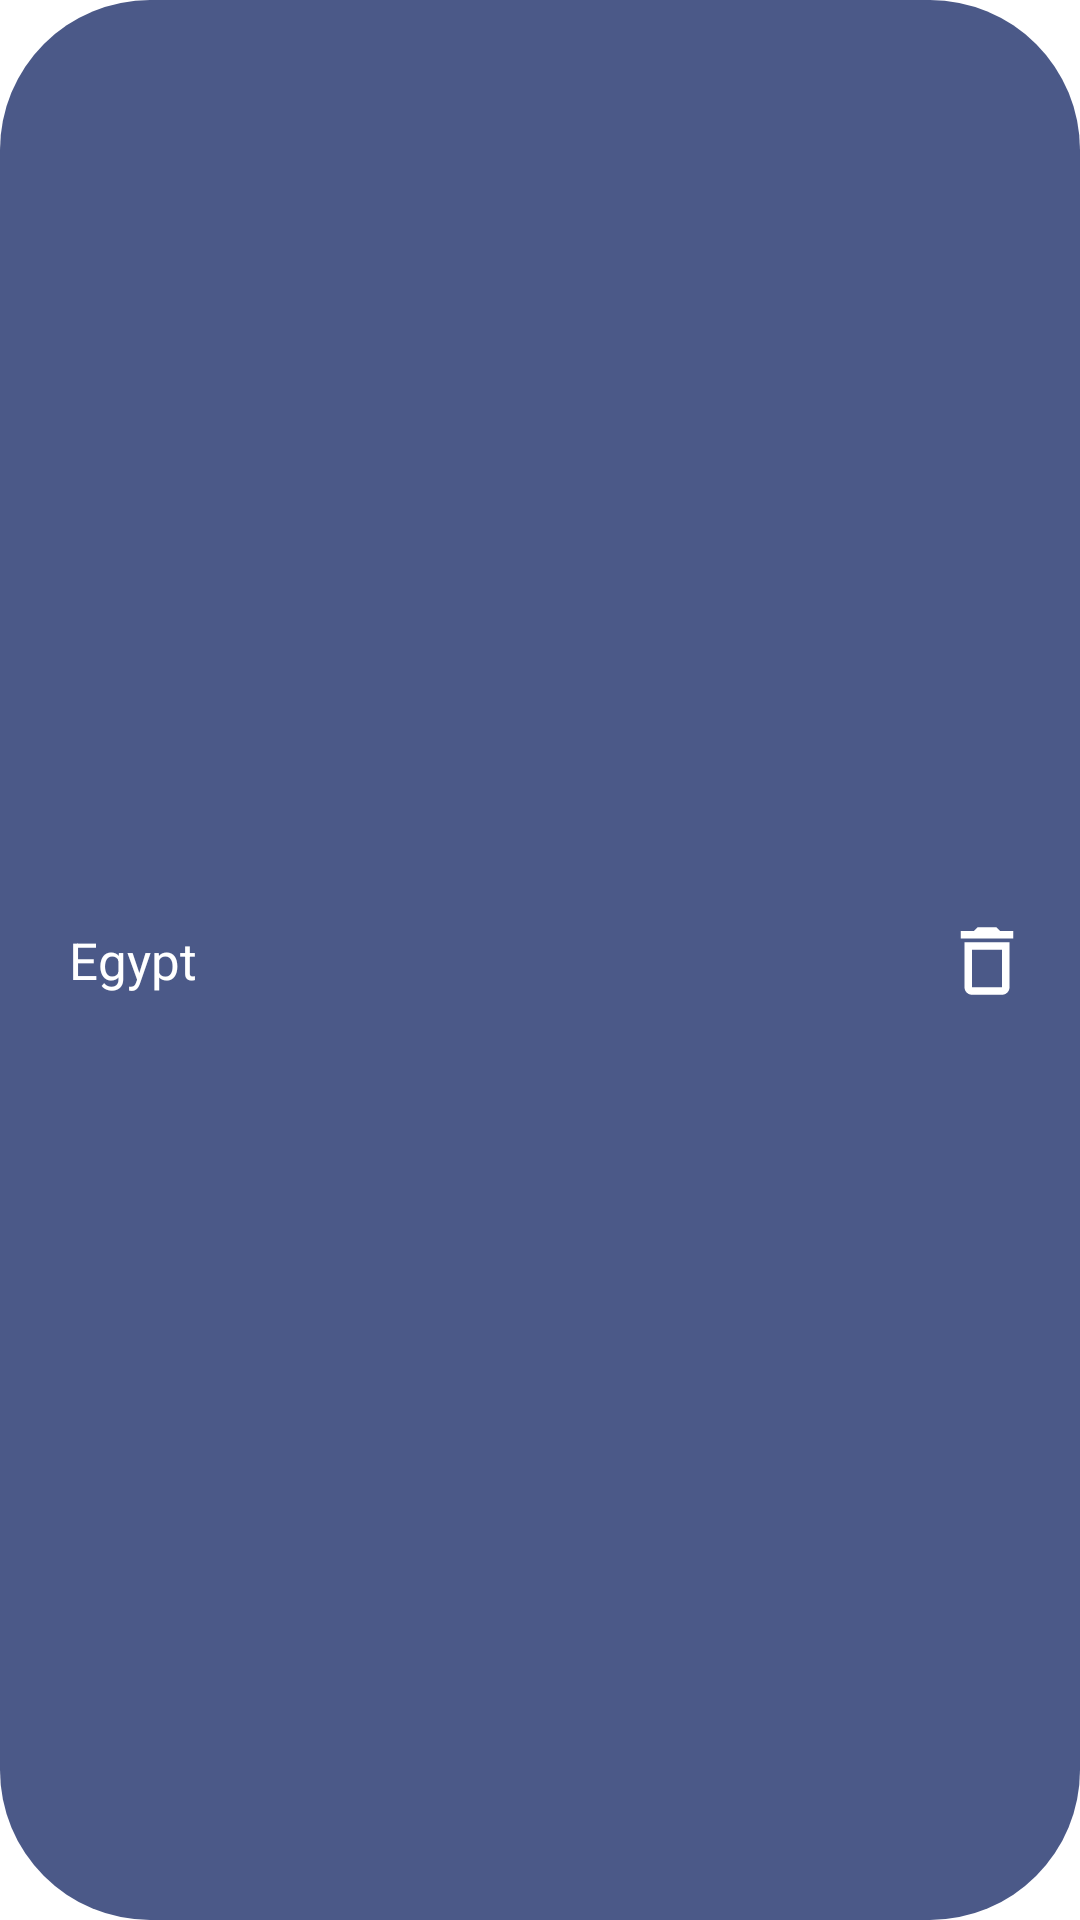

Icons on this 1080w x 1920h Android screen, each with the point to tap as (x,y):
delete: (987,961)
